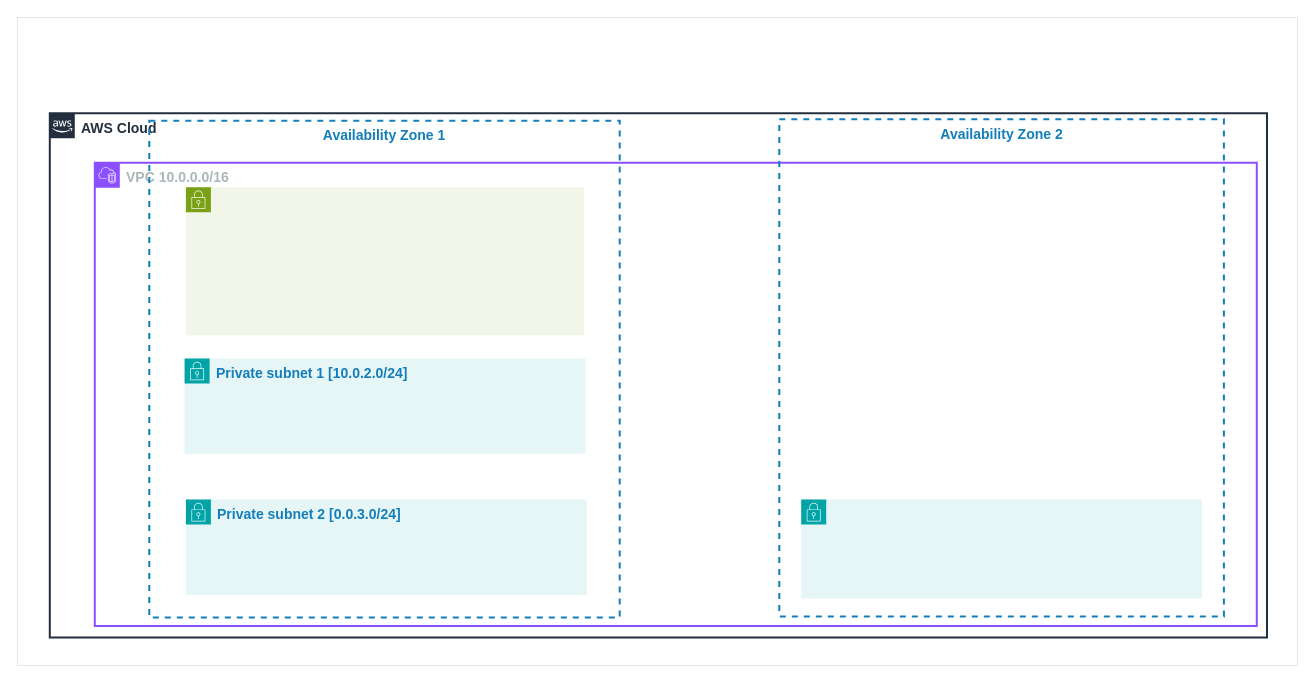
The diagram is 1314 pixels wide and 682 high, and some of its shapes have lost their labels. Each missing label, with the centre of its shape:
Private subnet 3 [10.0.4.0/24]: the point at 1001,548
Public subnet [10.0.1.0/24]: the point at 384,260
